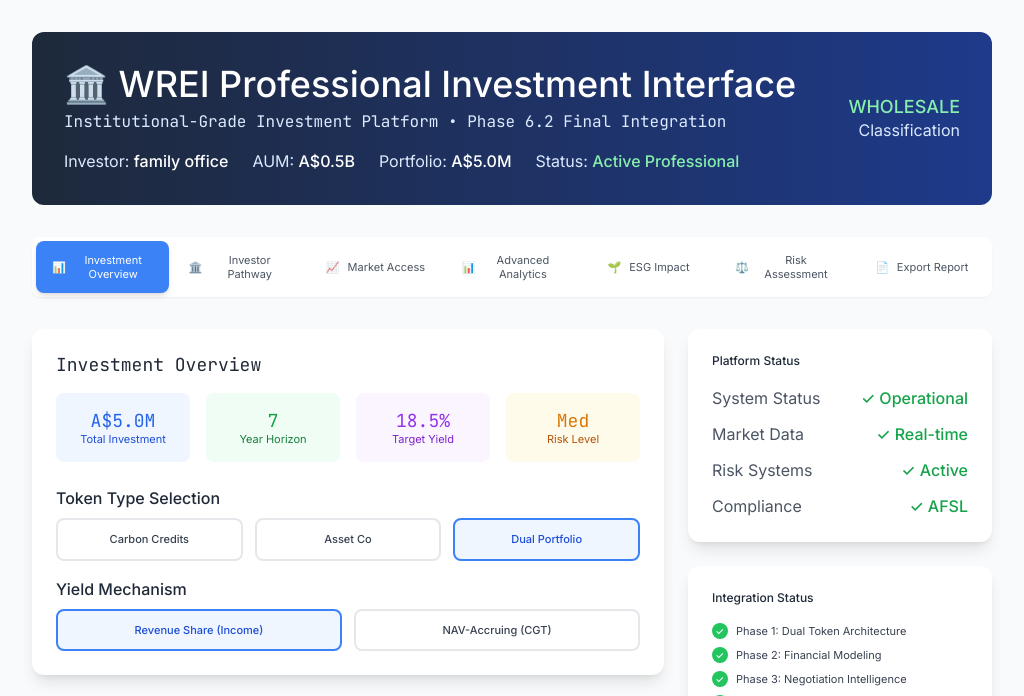
Phase 6.2: API Route Integration › integrates with market intelligence system
The width and height of the screenshot is (1024, 696).
# Verify market access integration
Step 1. Click the text "Market Access" → {"x": 386, "y": 267}, box [348,260,425,274]
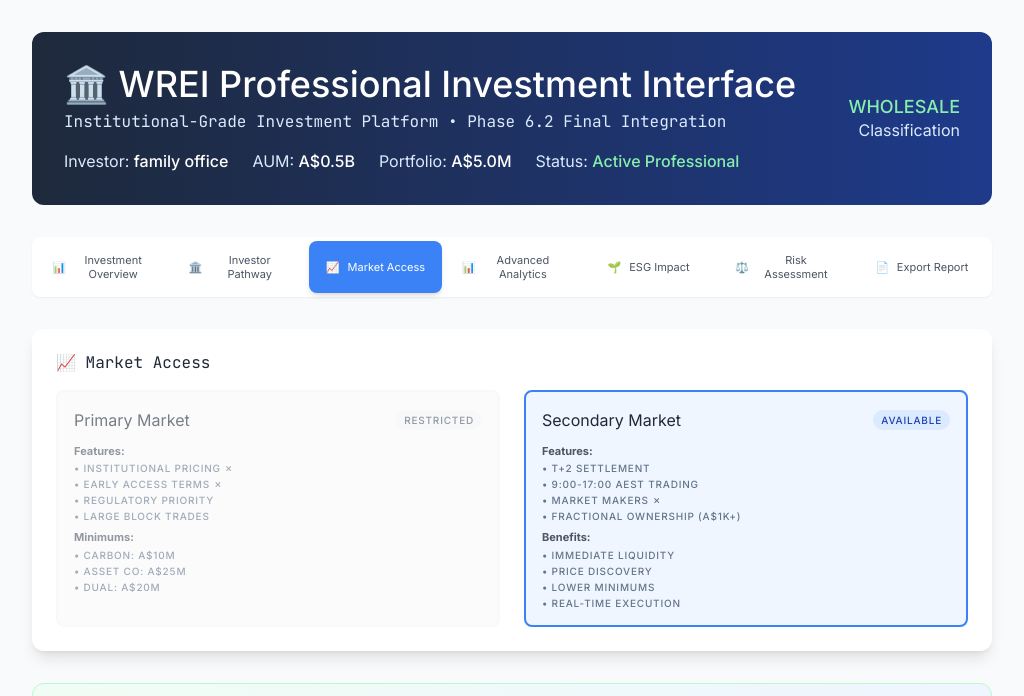
Check: the text "Primary Market" is shown, box [74,408,190,432]
Check: the text "Secondary Market" is shown, box [542,408,681,432]
